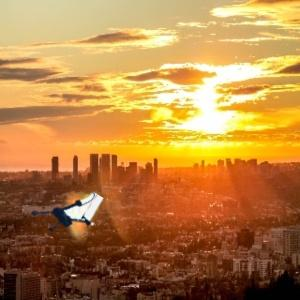drone: (26, 179, 97, 250)
